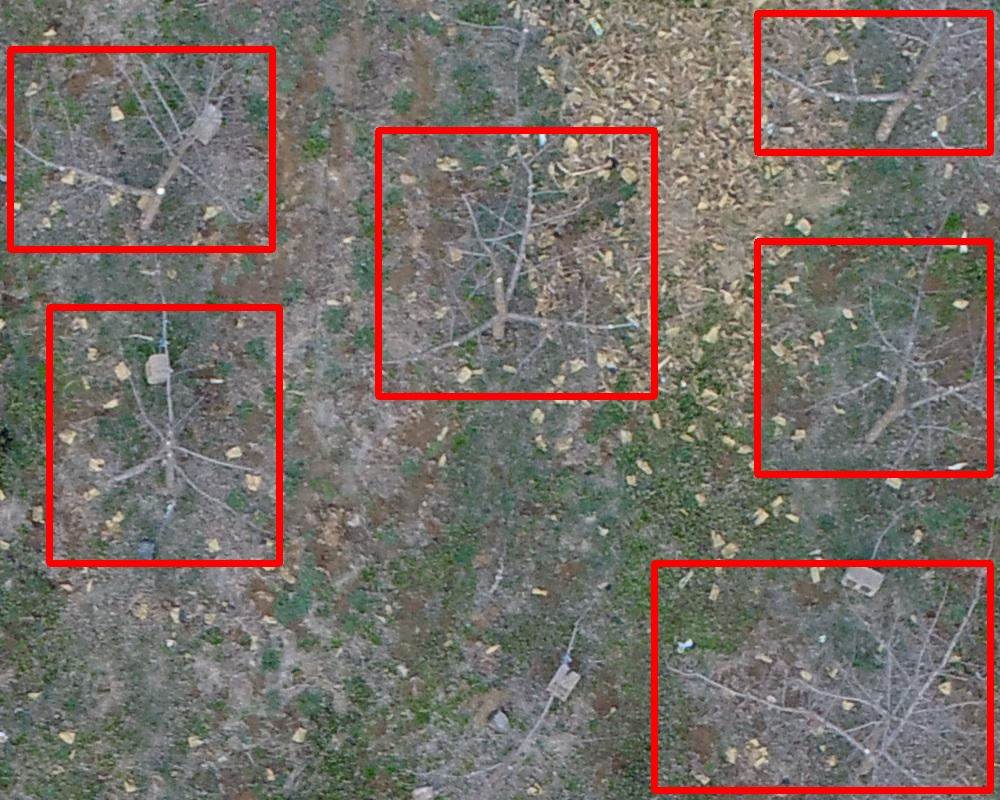apple: (654, 563, 990, 790), (378, 130, 654, 396), (49, 307, 279, 563), (757, 241, 990, 474), (10, 49, 272, 249), (757, 13, 990, 152)
